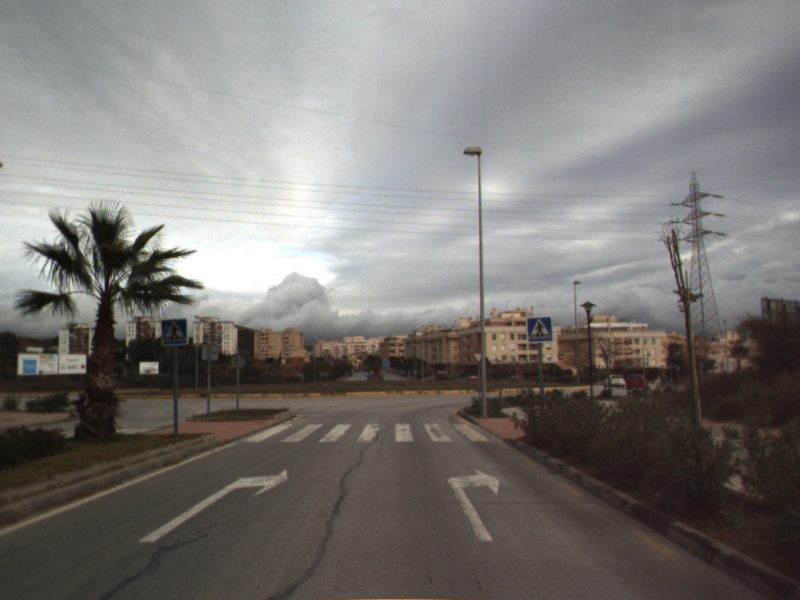RIGHT: (136, 467, 290, 544), (444, 466, 501, 544)
